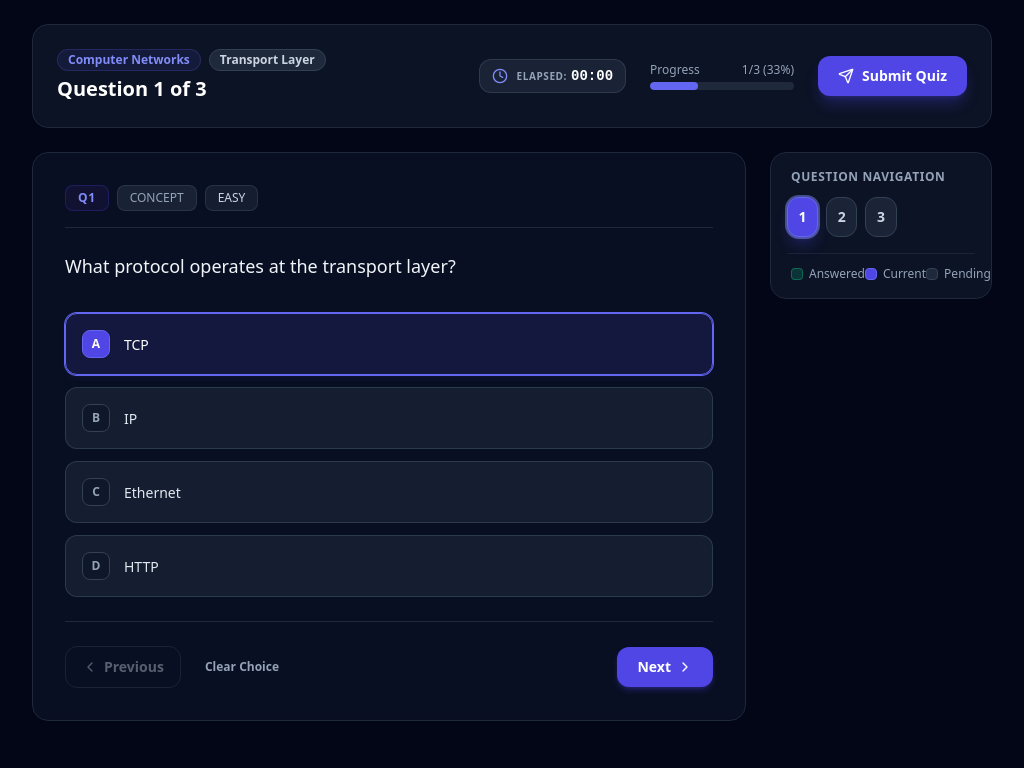
Test case: Quiz Solving Interface (PROMPT 19) › navigates between questions preserving selections in UI state
The width and height of the screenshot is (1024, 768).
Expected: the heading "Question 1 of 3" is shown, [57,75,207,102]
Move to Question 2
Click the button "Next".
click(665, 667)  # box [618,647,713,687]
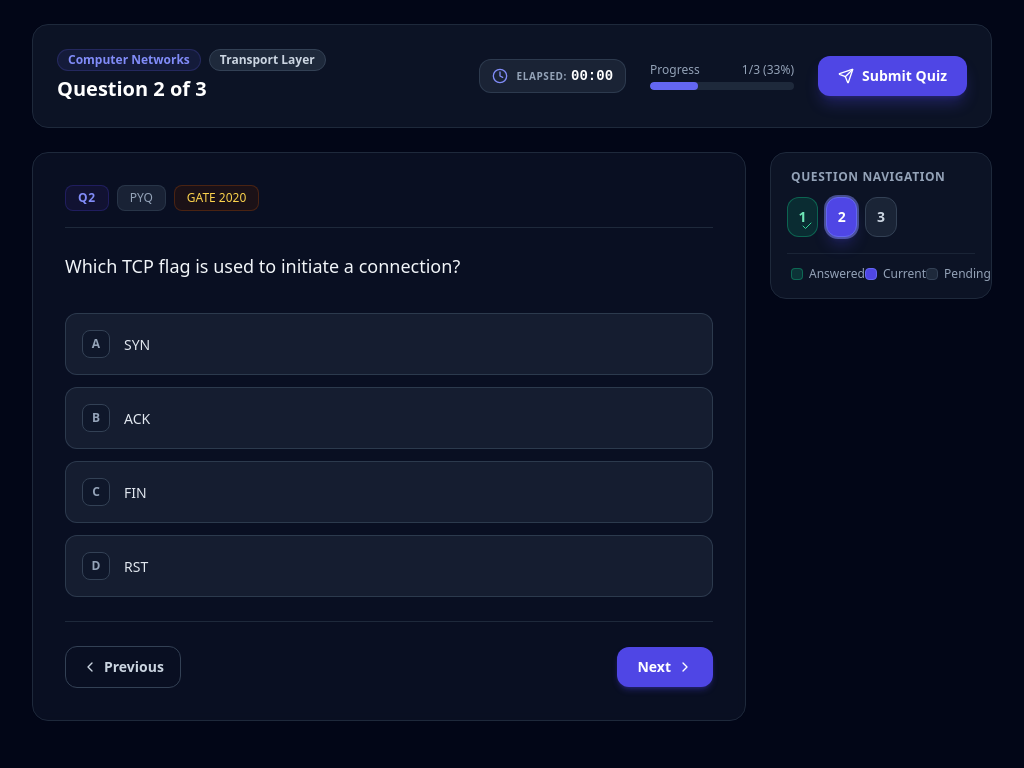
Expected: the heading "Question 2 of 3" is shown, [57,75,207,102]
Expected: the text "Which TCP flag is used to initiate a connection?" is shown, [65,254,460,278]
Move back to Question 1
Click the button "Previous".
click(123, 667)  # box [65,646,181,688]
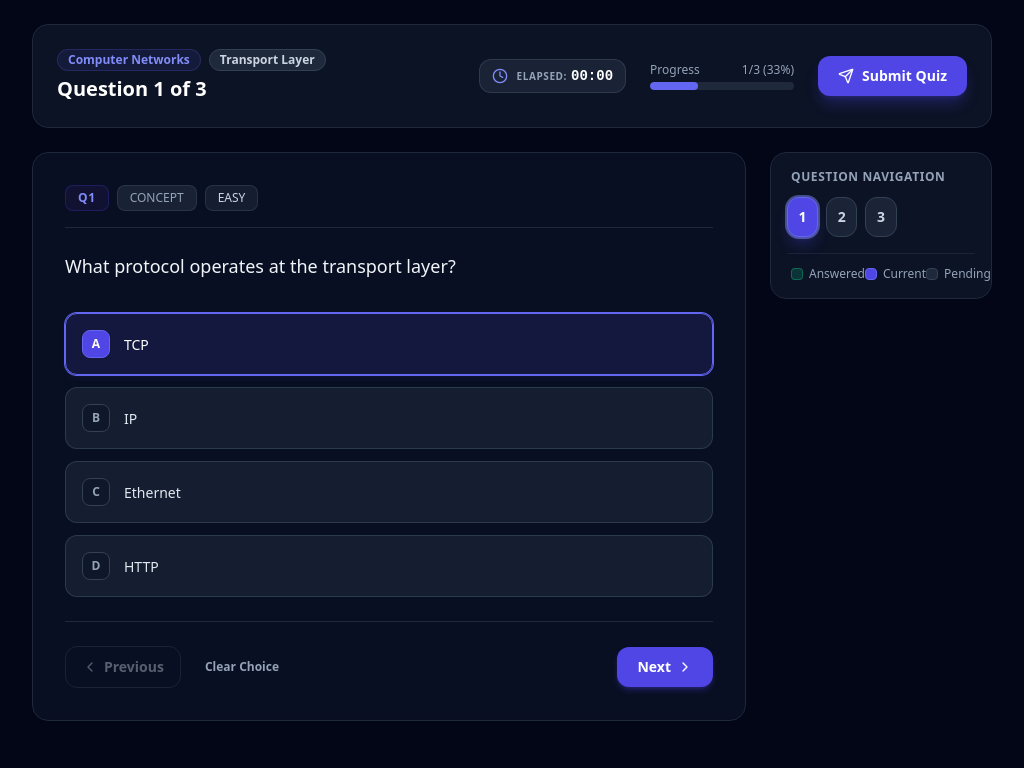
Expected: the heading "Question 1 of 3" is shown, [57,75,207,102]
